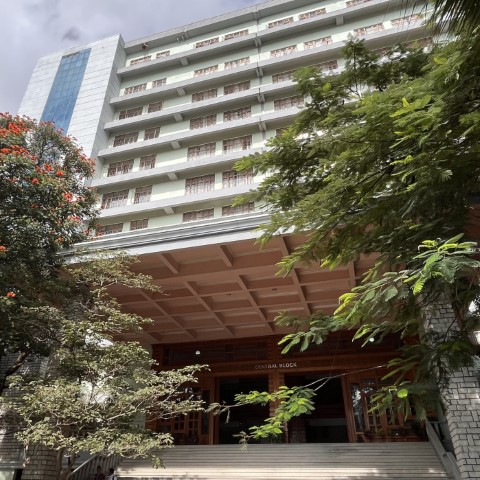Central Block: (18, 17, 480, 480)
